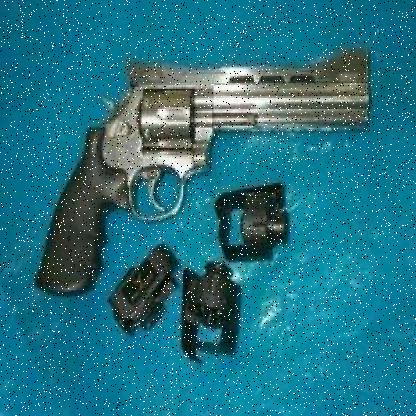pistol: (26, 44, 373, 299)
